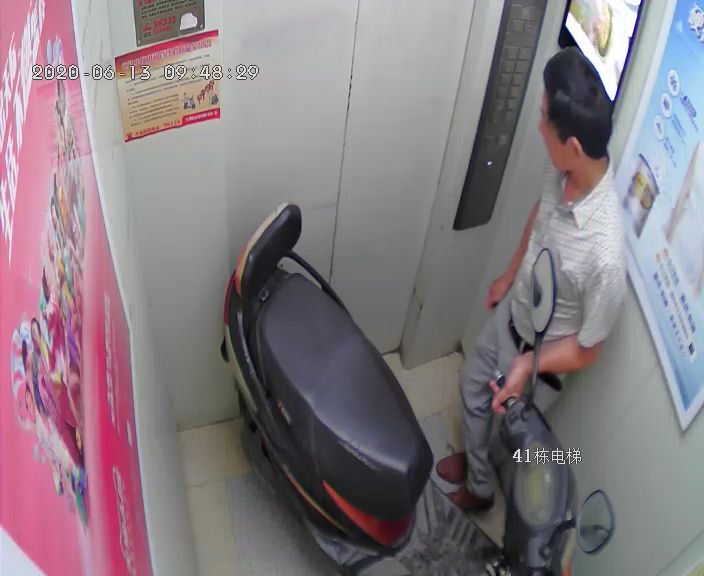Electric-bicycle: (222, 211, 579, 576)
